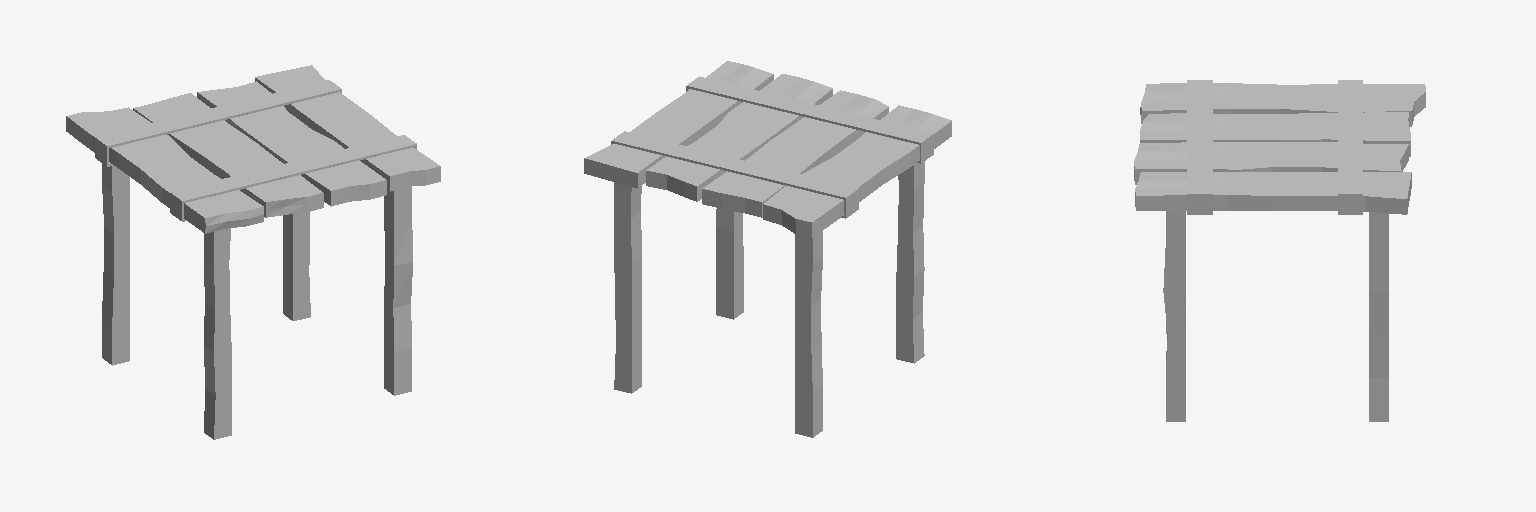
Rendered from Mesa Cuadrada.obj.
The picture shows the model from 3 angles: view 1: azimuth 30°, elevation 25°; view 2: azimuth 150°, elevation 25°; view 3: azimuth 270°, elevation 25°; orthographic projection.
Parts seen in each view (by area): view 1: Mesa_Cuadrada; view 2: Mesa_Cuadrada; view 3: Mesa_Cuadrada.
Boxes of the visible parts, <box> form: Mesa_Cuadrada: <box>66,65,440,439</box>; Mesa_Cuadrada: <box>584,61,951,437</box>; Mesa_Cuadrada: <box>1134,80,1425,421</box>.
Bounding box in the file's own units: 31.8 × 29.87 × 33.51.